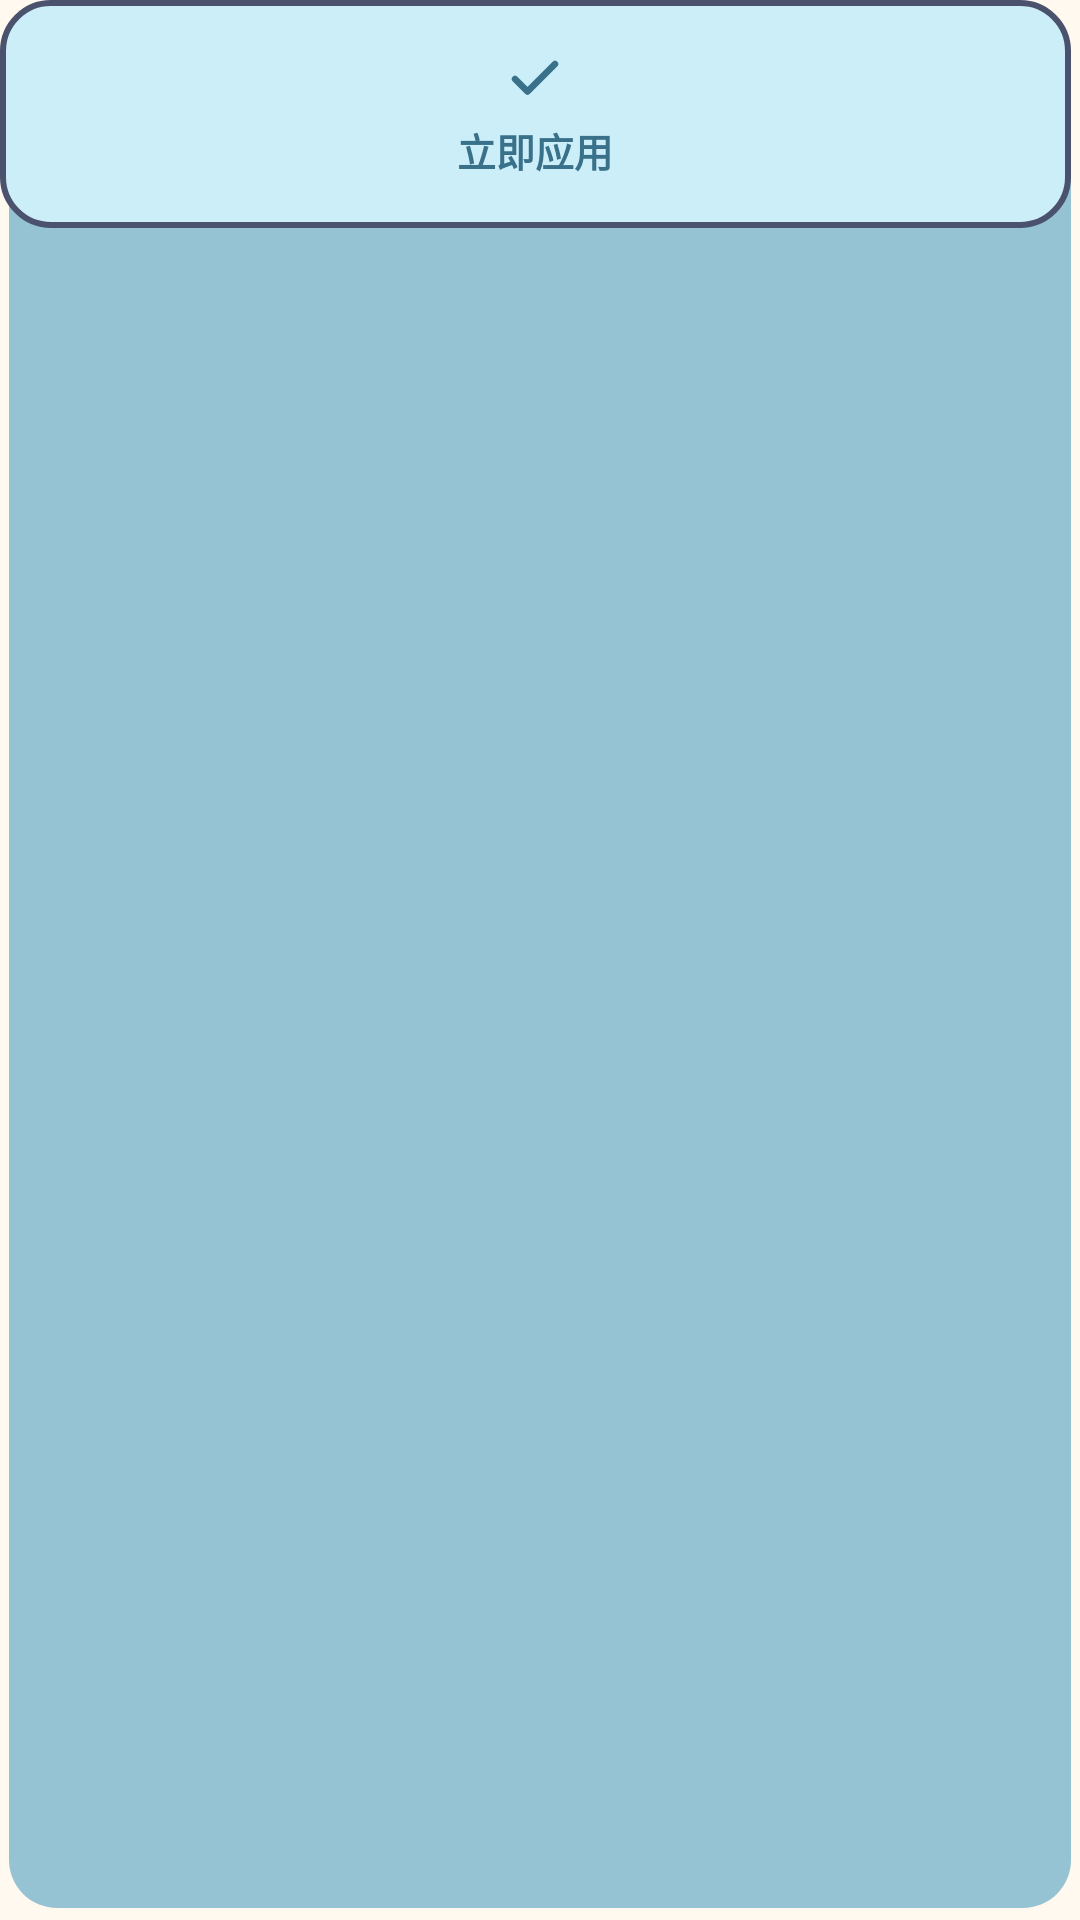

Named icons in this screenshot (1080w x 1920h) and their bounding boxes, (x1, y1, x2, y2):
check cyan: (511, 60, 559, 95)
